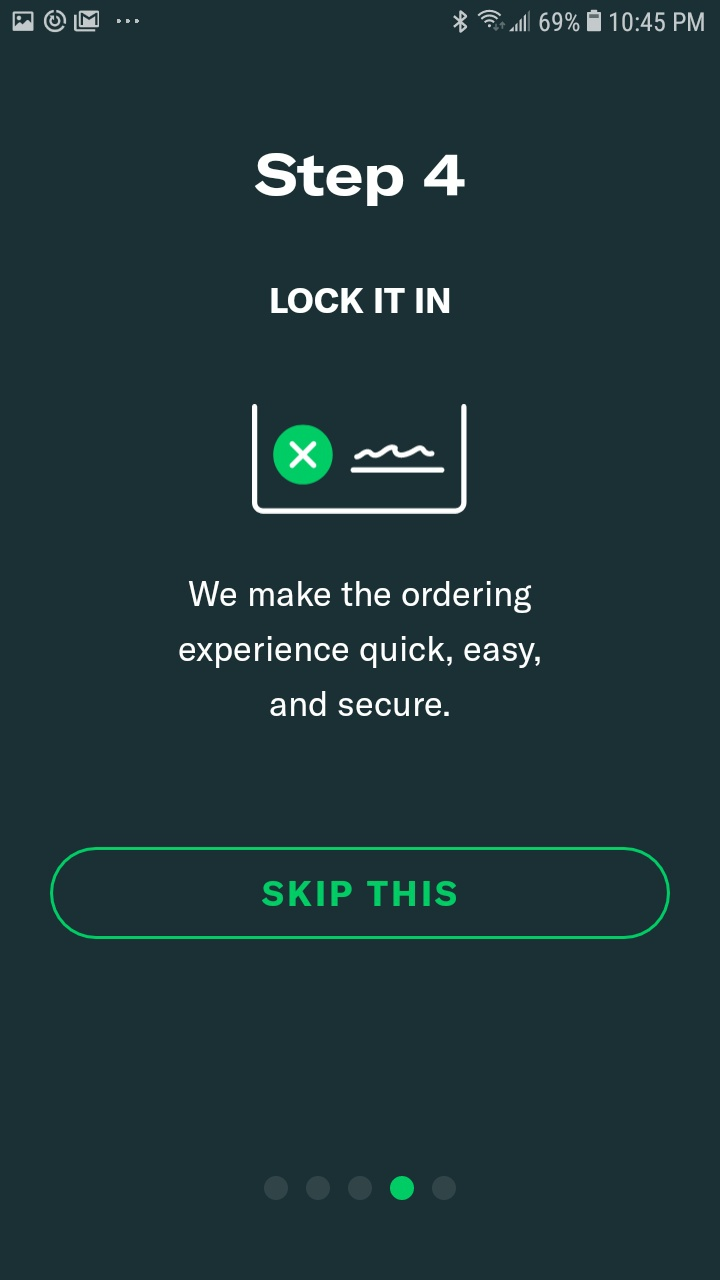Image: (252, 404, 468, 515)
PageIndicator: (263, 1175, 458, 1202)
Text: (179, 581, 541, 717), (255, 153, 466, 208), (271, 288, 451, 314)
TextButton: (50, 846, 671, 940)
UpperTaskBar: (1, 1, 720, 35)
